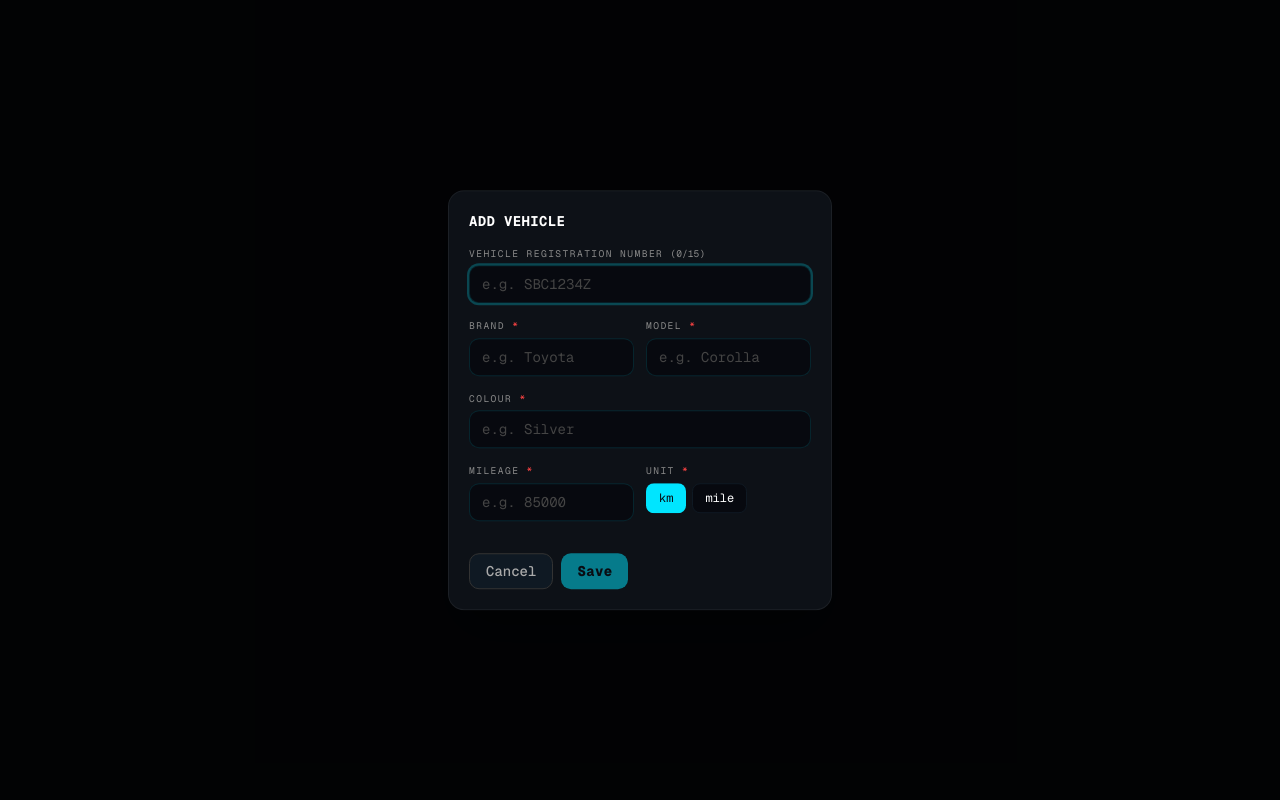
Test: VehicleFormDialog › updates character counter as user types
Type "FBA1234A" into the field labelled "Vehicle Registration Number (0/15)" at (640, 285), box [469, 266, 811, 304]
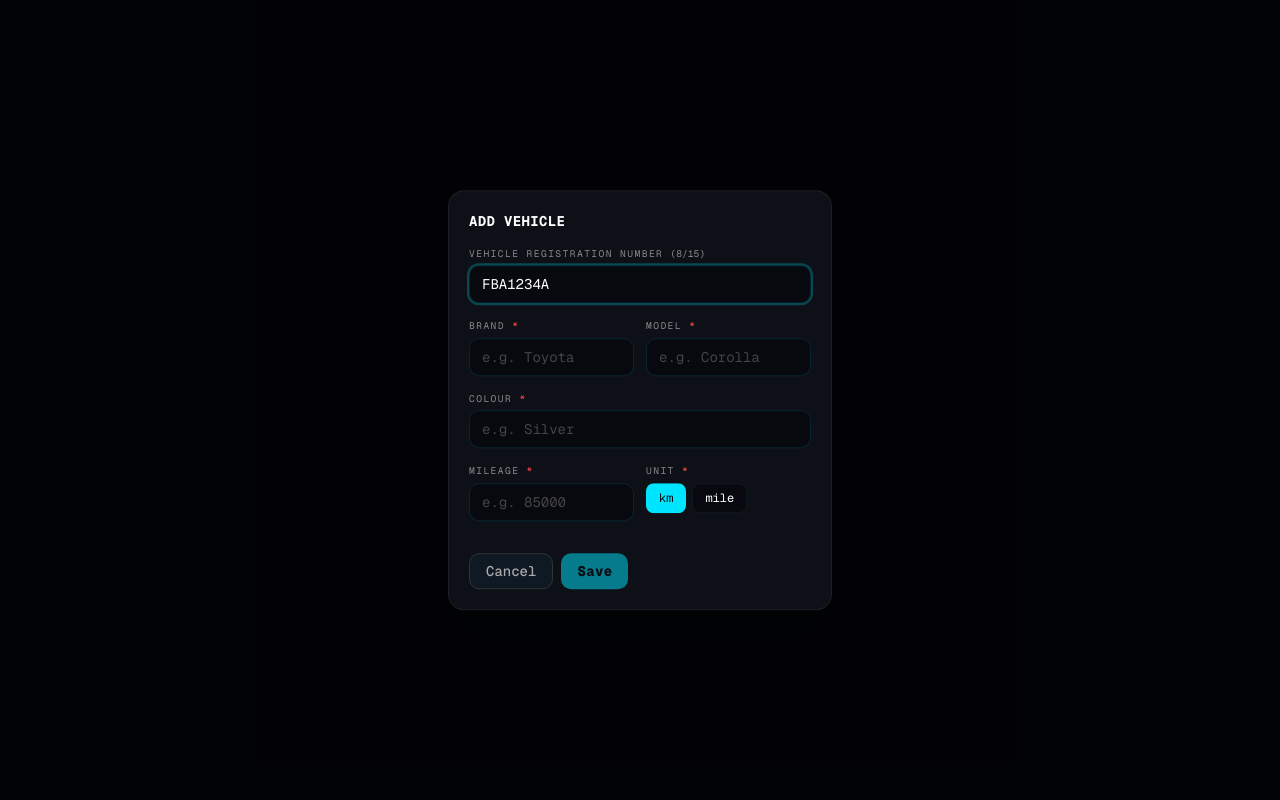
Now the text "(8/15)" is shown, box [670, 247, 705, 260]
